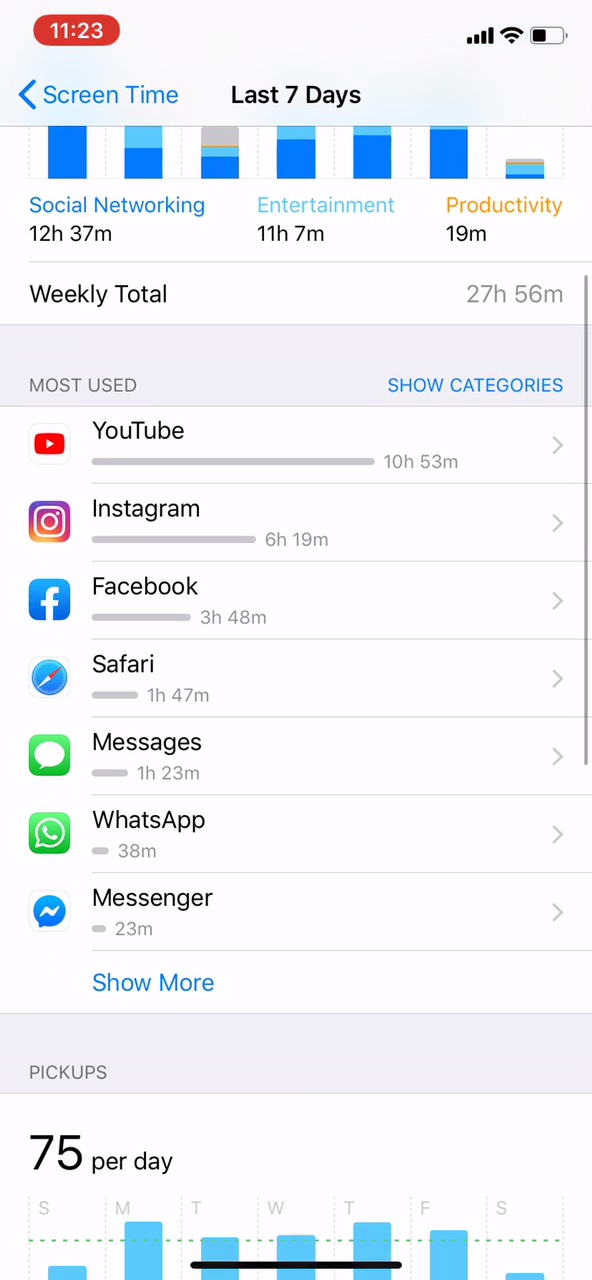use_over: (25, 191, 576, 311)
week: (213, 73, 378, 114)
